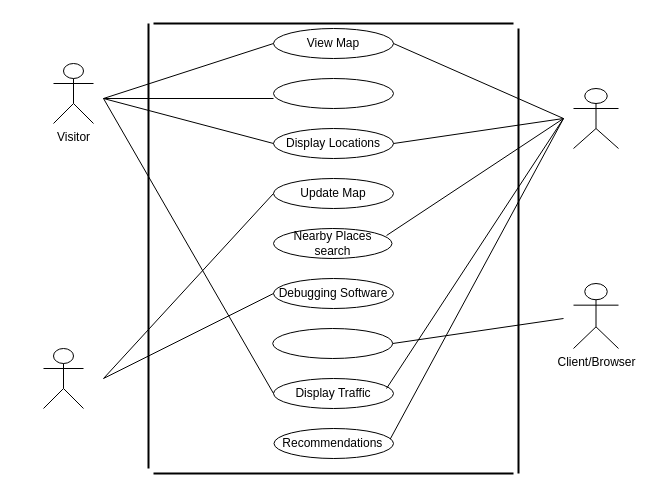
Some shapes in this 652 by 496 pixel diagram are drawn without their labels. The shapes that lost their labels are listed below. From the top down, each one's centre as x and y in pixels, then its label:
At (333,93): "Search".
At (595,118): "Server".
At (332,343): "Interactive Maps".
At (63,378): "Admin/Developer".
